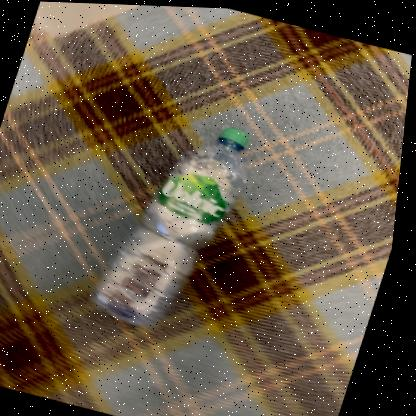Plastic: (99, 126, 252, 326)
